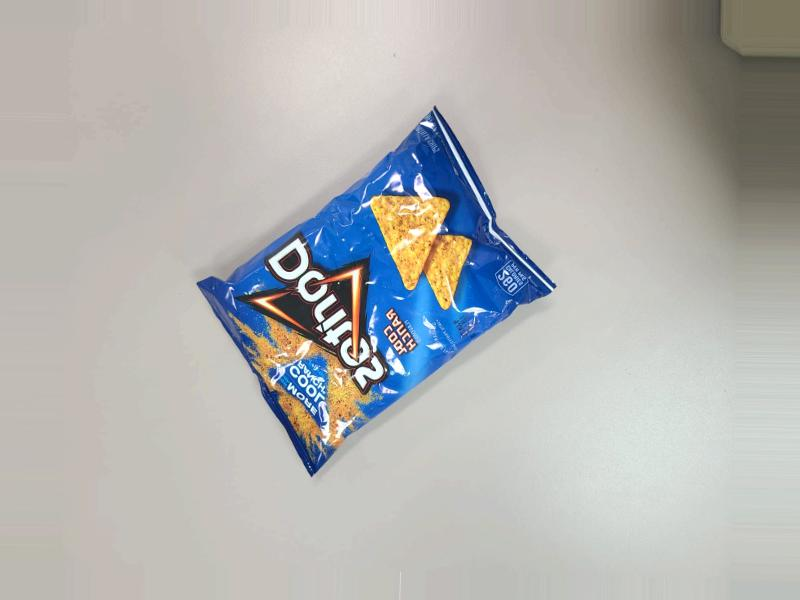doritos: (209, 89, 552, 475)
